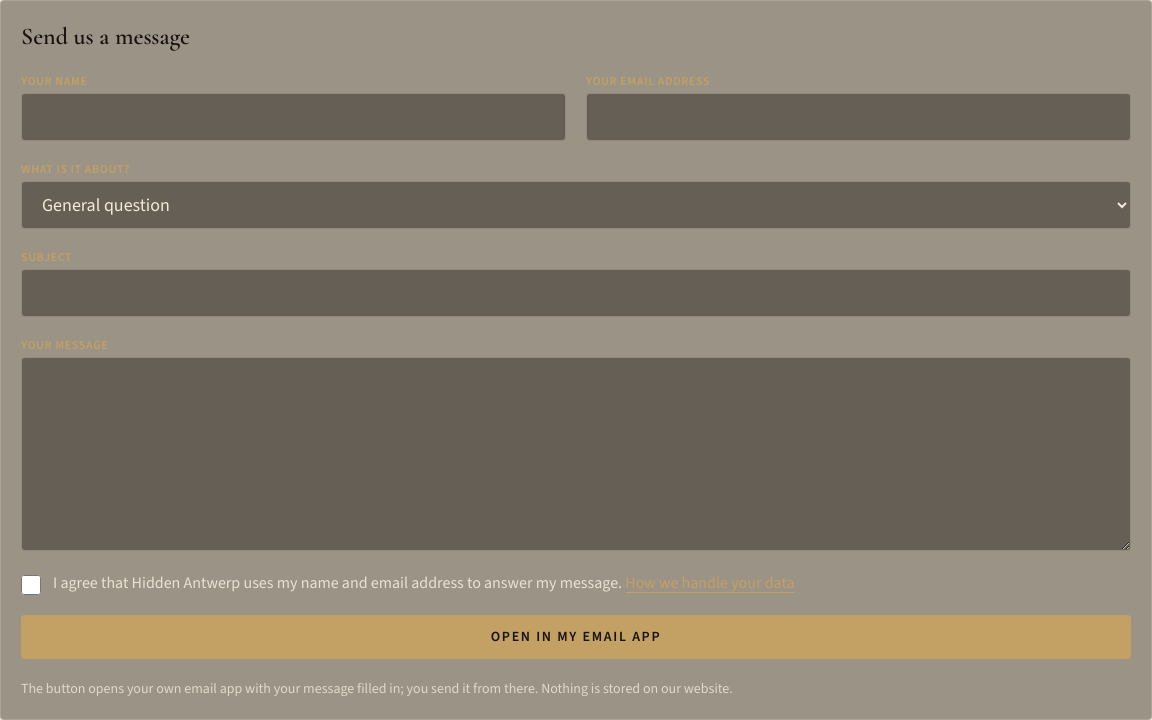
Test: /contact › with an address: wrong fields are named and nothing opens
Click the button "Open in my email app" at (576, 637), box x1=21 y1=615 x2=1131 y2=659
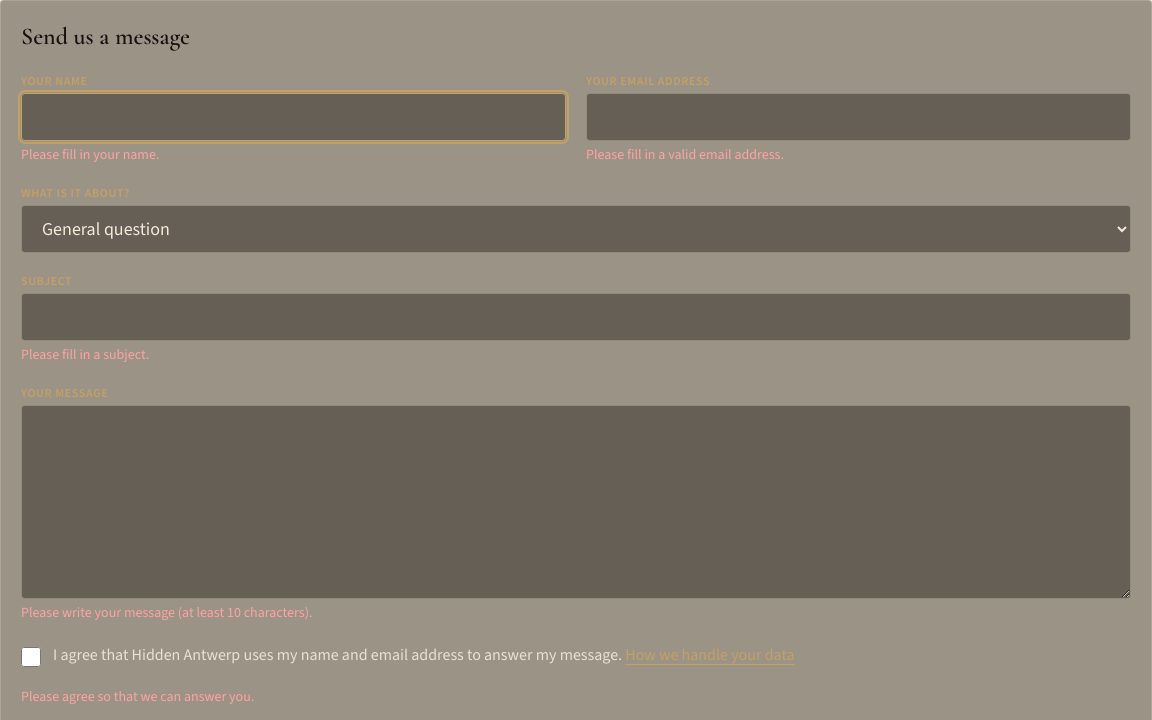
Check: the text "Please fill in your name." is shown, box x1=21 y1=145 x2=159 y2=164
Check: the text "Please agree so that we can answer you." is shown, box x1=21 y1=687 x2=254 y2=706
